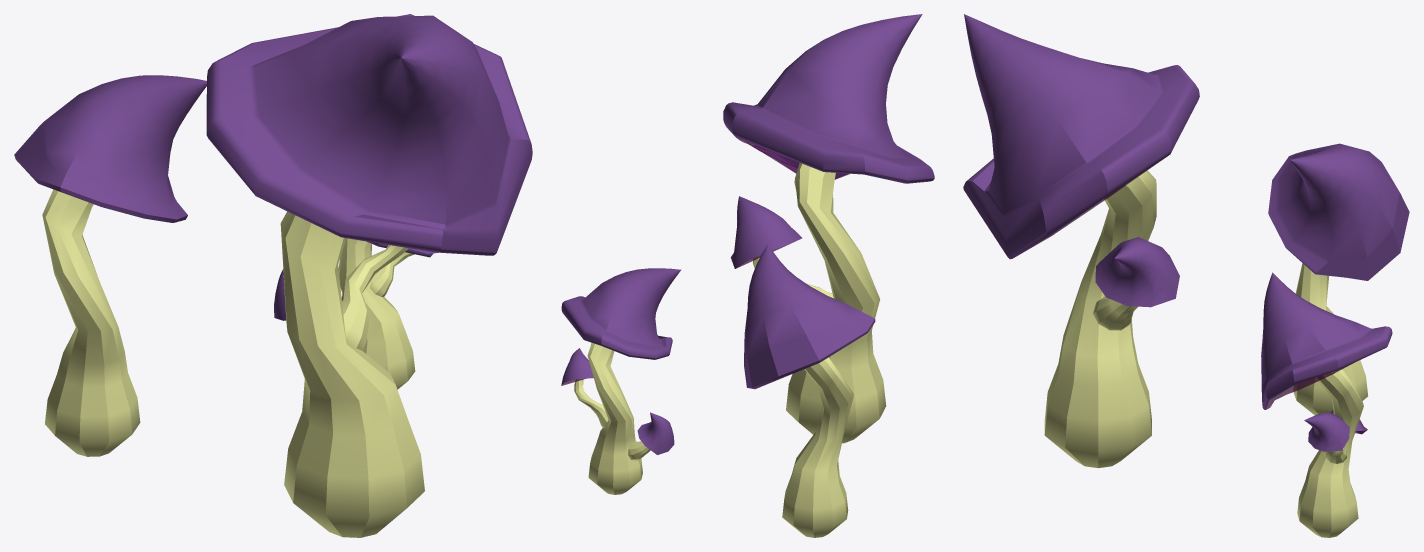
Rendered from _hroomsTall.fbx.
3 views of the same model, side by side, from view 1: azimuth 30°, elevation 25°; view 2: azimuth 150°, elevation 25°; view 3: azimuth 270°, elevation 25° (orthographic). The views are drawn at different scales.
Visible parts, largest first — view 1: pCone7, pCone4, pCone8; view 2: pCone7, pCone4, pCone8; view 3: pCone7, pCone4, pCone8.
Boxes of the visible parts, x1,y1,x2,y2 form: pCone7: (206, 14, 532, 537); pCone4: (14, 75, 206, 456); pCone8: (274, 238, 433, 389); pCone7: (723, 14, 934, 443); pCone4: (744, 244, 875, 537); pCone8: (561, 268, 681, 494); pCone7: (963, 14, 1199, 468); pCone4: (1268, 143, 1409, 415); pCone8: (1261, 272, 1392, 537).
Size of the model in its own units: 6.66 by 8.29 by 7.63.
